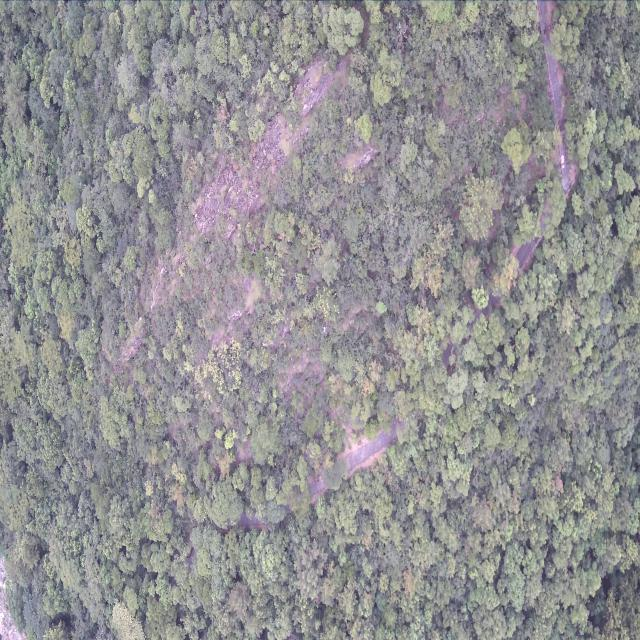UAV: (322, 325, 328, 334)
